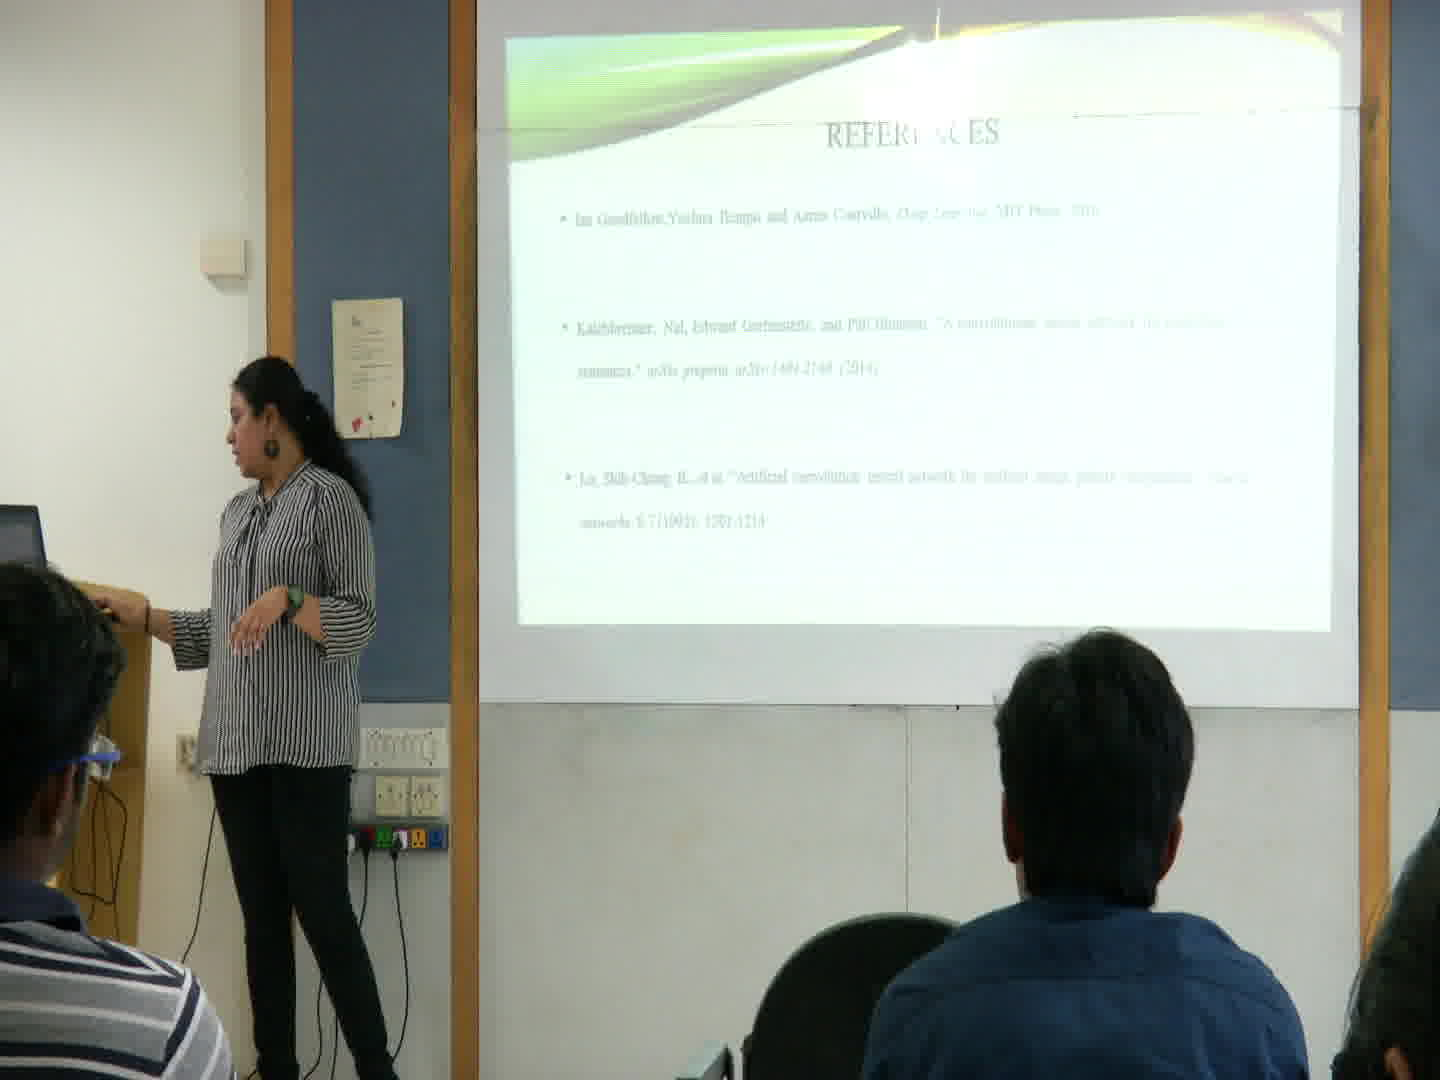slide: (506, 15, 1337, 632)
